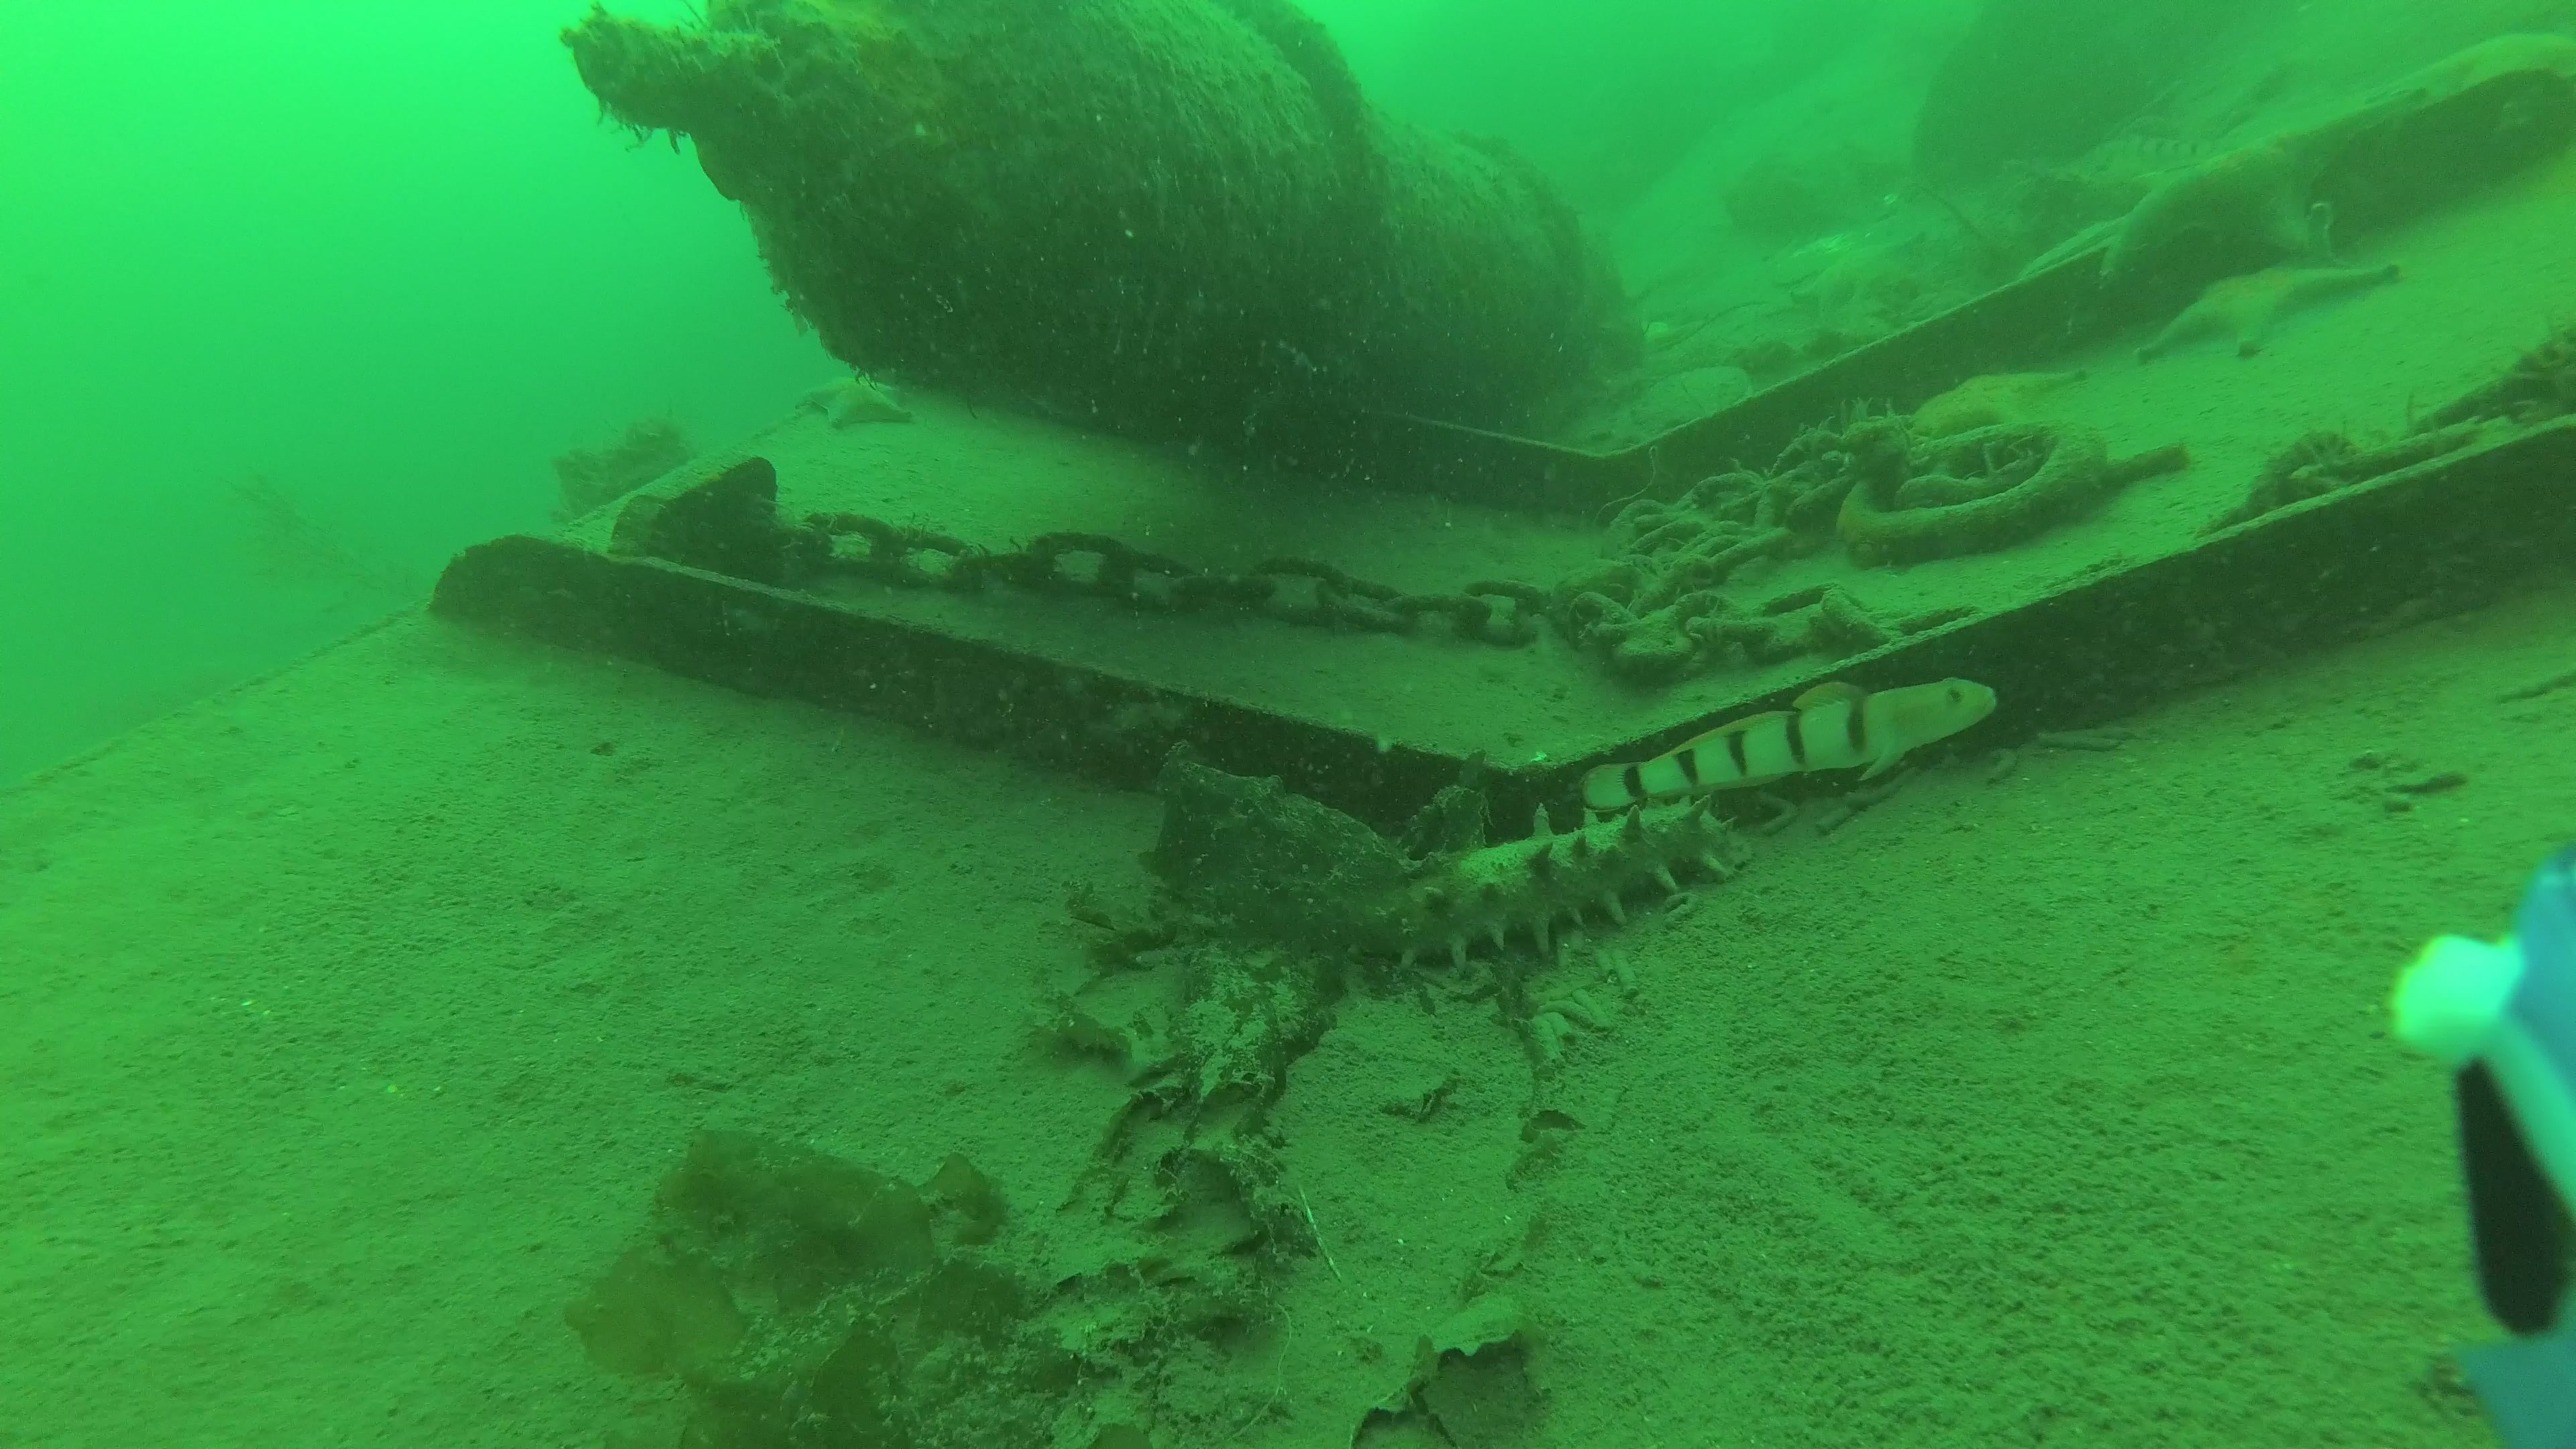holothurian: (1302, 800, 1737, 980)
scallop: (1631, 366, 1757, 442)
starfish: (2098, 87, 2429, 290), (2144, 271, 2397, 361), (1877, 372, 2093, 441), (1796, 239, 1921, 308), (801, 370, 909, 432)
